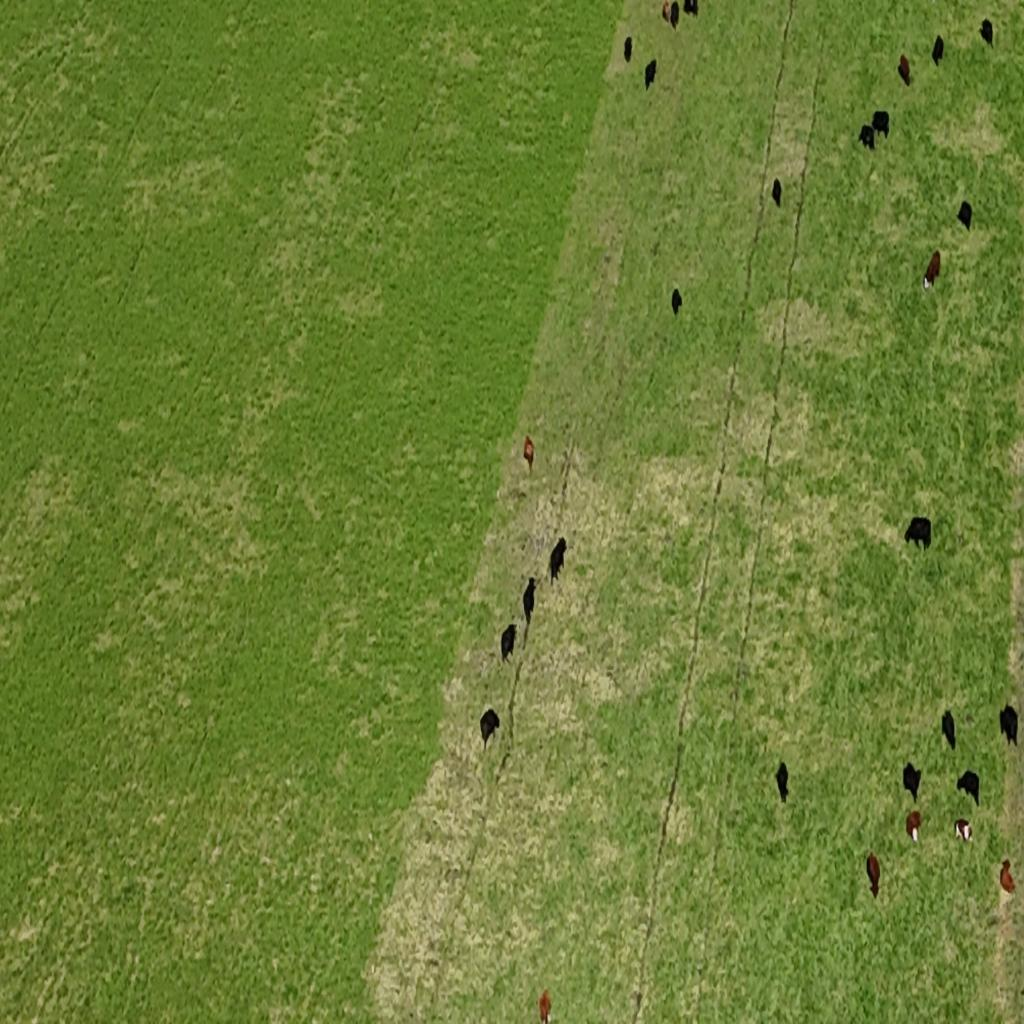cow: (904, 515, 932, 553), (548, 534, 567, 586), (957, 770, 980, 808), (999, 703, 1019, 746), (479, 707, 500, 746), (903, 761, 922, 804), (522, 577, 538, 626), (866, 852, 881, 900), (500, 622, 516, 664), (924, 250, 940, 290), (942, 708, 956, 752), (775, 760, 789, 803), (1000, 859, 1016, 894), (906, 810, 922, 844), (958, 198, 973, 232), (538, 988, 552, 1024), (874, 107, 890, 138), (954, 818, 973, 844), (858, 122, 874, 150), (980, 18, 994, 46), (524, 435, 534, 474), (932, 36, 944, 68), (898, 54, 910, 86), (645, 58, 656, 90), (671, 288, 682, 316), (772, 178, 782, 207), (684, 0, 698, 19), (623, 36, 632, 64), (670, 1, 679, 29), (662, 0, 671, 24)
